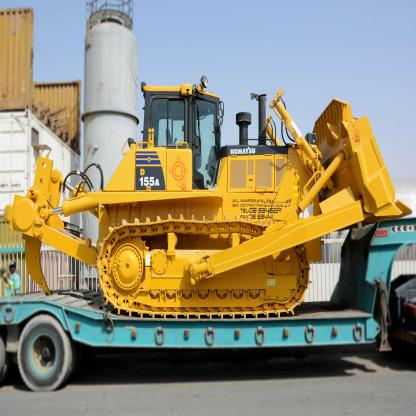bull_dozer/loader/grader: (16, 59, 408, 323)
